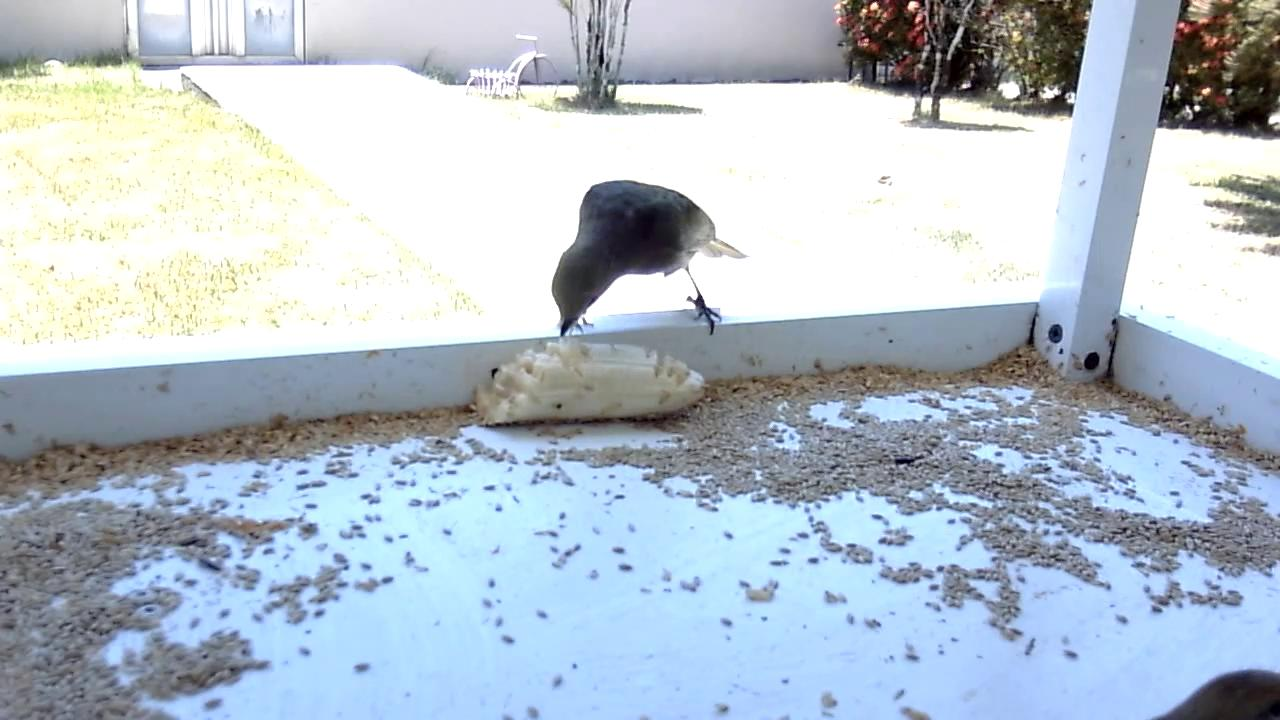sanhaco_do_coqueiro: (548, 175, 749, 343)
